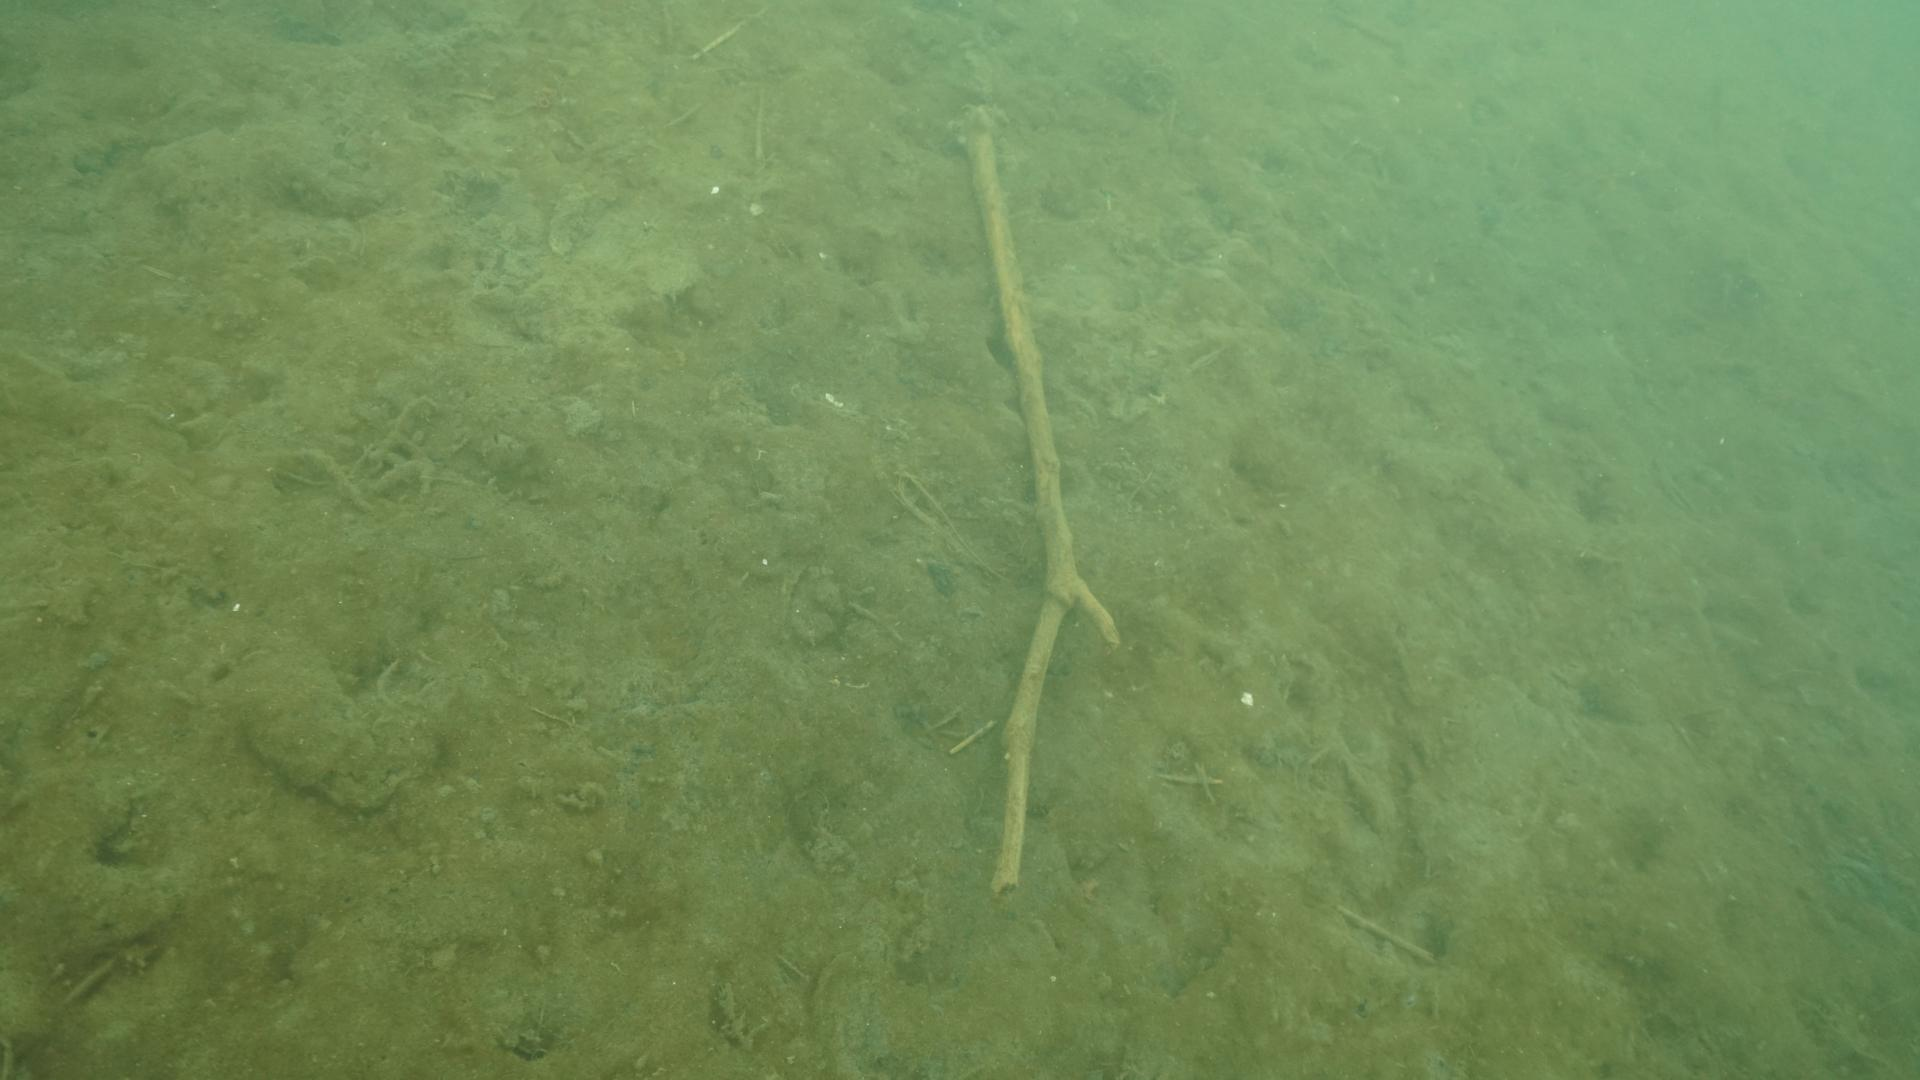wood: (947, 100, 1122, 901)
